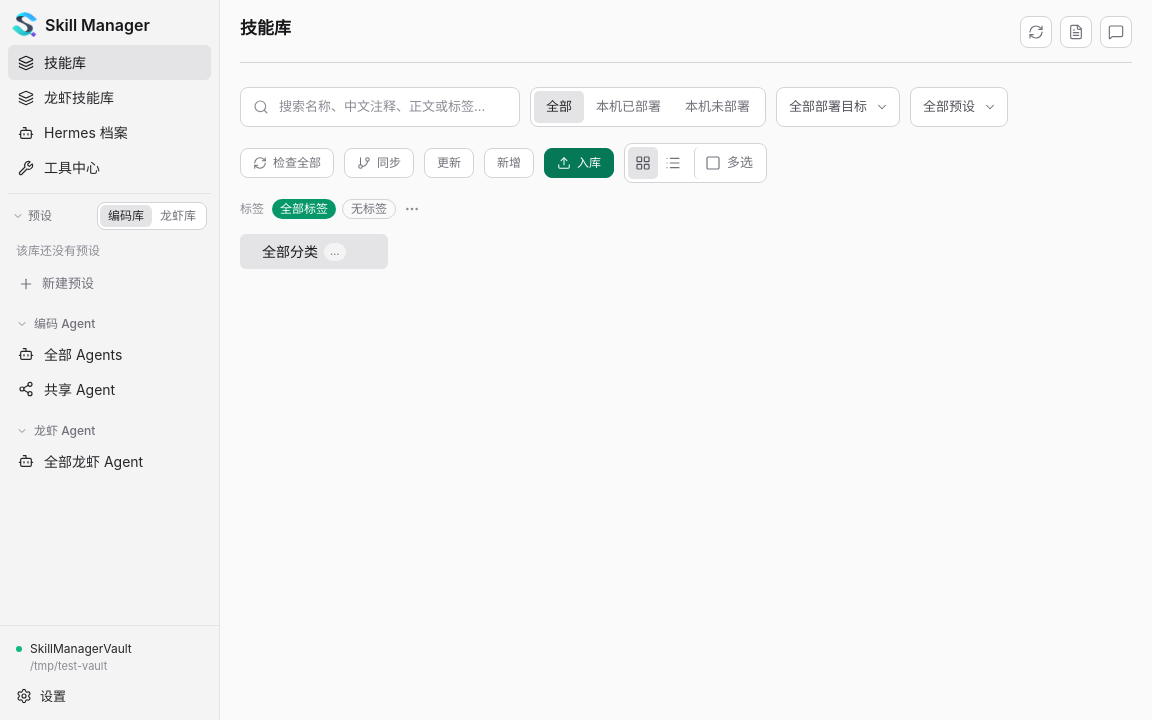
Test: 拉取返回 pulled 时如实显示结果，并恢复更新按钮
Click the button named "检查并拉取 SkillManagerVault" at (1036, 32), box [1020, 16, 1052, 48]
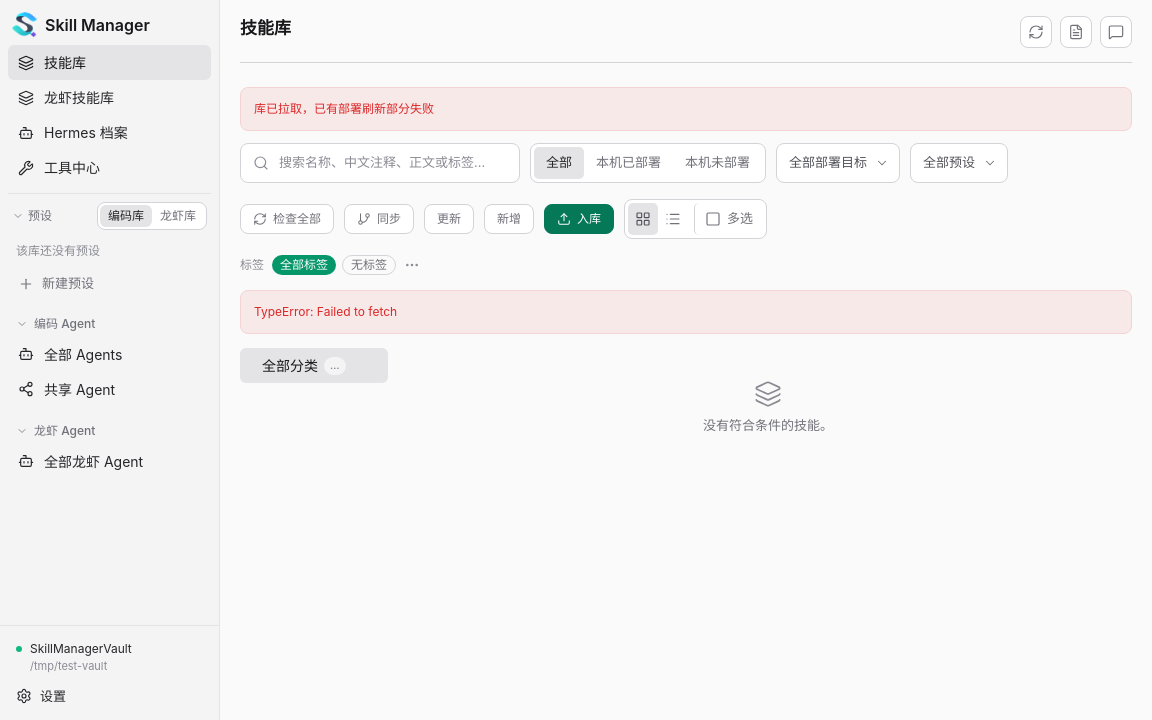
Result: the text "库已拉取，已有部署刷新部分失败" is shown at [240, 87, 1132, 131]
